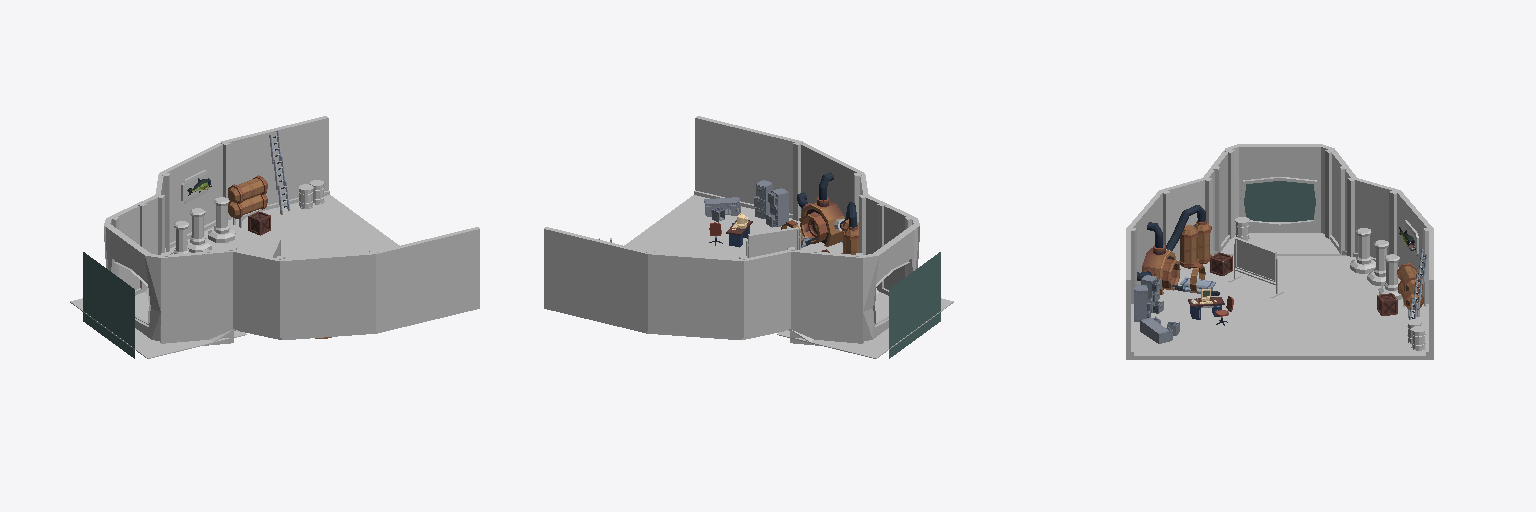
The picture shows the model from 3 angles: view 1: azimuth 30°, elevation 25°; view 2: azimuth 150°, elevation 25°; view 3: azimuth 270°, elevation 25°; orthographic projection.
Visible parts, largest first — view 1: group26, pCube92, pCube93, pCube7, pCube3, pCube12, pPlane2, pCube1, pCube5, group8, pCylinder14; view 2: group26, pCube92, pCube7, pPlane2, pCube1, pCube93, group6, pCube3, pCube5, whiteboard:pCube8, group16, pCube32; view 3: pCube7, group26, pCube1, pPlane2, group6, pCube5, whiteboard:pCube8, pCube12, pCube93, group7, group16, pCube3 (+5 smaller).
Part boxes in pixels (left/top/right/bottom): group26: left=106, top=116, right=328, bottom=292; pCube92: left=375, top=227, right=479, bottom=330; pCube93: left=280, top=252, right=375, bottom=337; pCube7: left=166, top=195, right=479, bottom=339; pCube3: left=160, top=250, right=233, bottom=345; pCube12: left=232, top=250, right=280, bottom=337; pPlane2: left=83, top=178, right=200, bottom=358; pCube1: left=104, top=218, right=162, bottom=340; pCube5: left=70, top=292, right=246, bottom=358; group8: left=228, top=175, right=267, bottom=218; pCylinder14: left=299, top=180, right=324, bottom=208; group26: left=544, top=227, right=863, bottom=345; pCube92: left=695, top=116, right=801, bottom=213; pCube7: left=544, top=195, right=842, bottom=339; pPlane2: left=889, top=252, right=940, bottom=358; pCube1: left=861, top=218, right=919, bottom=340; pCube93: left=801, top=141, right=863, bottom=217; group6: left=797, top=172, right=857, bottom=247; pCube3: left=866, top=195, right=917, bottom=289; pCube5: left=777, top=292, right=953, bottom=358; whiteboard:pCube8: left=748, top=227, right=798, bottom=257; group16: left=704, top=188, right=788, bottom=227; pCube32: left=793, top=141, right=802, bottom=220; pCube7: left=1126, top=256, right=1433, bottom=359; group26: left=1228, top=149, right=1433, bottom=356; pCube1: left=1225, top=144, right=1334, bottom=233; pPlane2: left=1244, top=181, right=1407, bottom=234; group6: left=1137, top=205, right=1219, bottom=295; pCube5: left=1221, top=222, right=1339, bottom=253; whiteboard:pCube8: left=1235, top=237, right=1276, bottom=281; pCube12: left=1161, top=177, right=1204, bottom=259; pCube93: left=1126, top=190, right=1162, bottom=284; group7: left=1179, top=222, right=1211, bottom=268; group16: left=1140, top=275, right=1172, bottom=343; pCube3: left=1203, top=149, right=1227, bottom=250.
Bounding box in the file's own units: 24.92 × 7.84 × 22.63.
Materials: 17 (9 with a texture image).